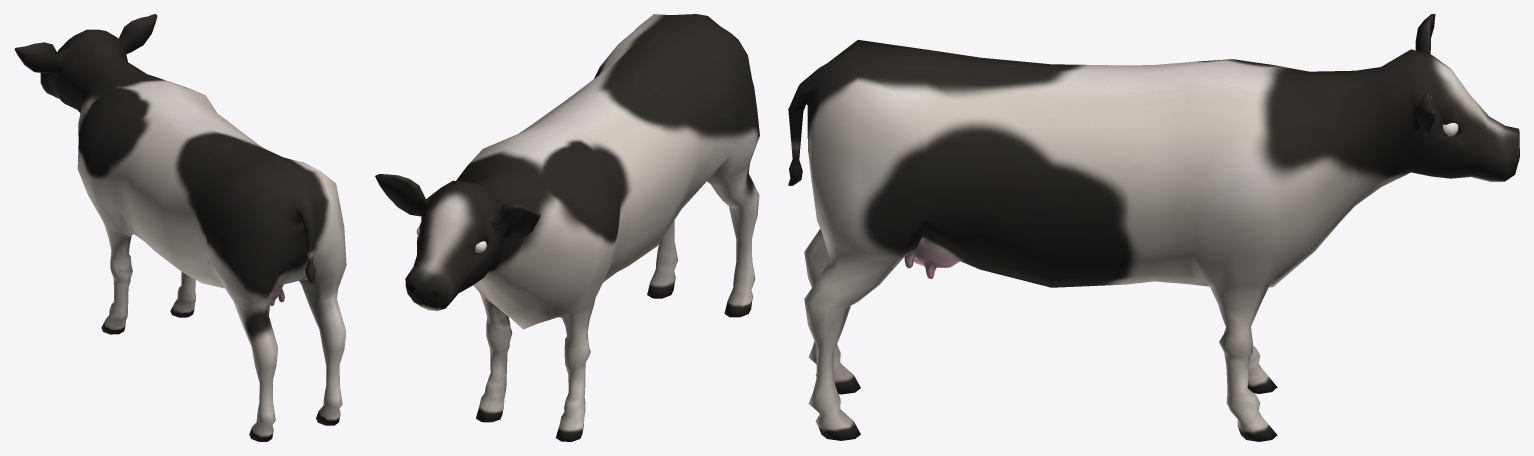
Rendered from CowFinal.FBX.
The picture shows the model from 3 angles, left to right: view 1: azimuth 30°, elevation 25°; view 2: azimuth 150°, elevation 25°; view 3: azimuth 270°, elevation 25°; orthographic projection. The views are drawn at different scales.
Visible parts, largest first — view 1: Cylinder002; view 2: Cylinder002; view 3: Cylinder002.
Boxes of the visible parts, bbox=[...] form: Cylinder002: bbox=[14, 14, 346, 441]; Cylinder002: bbox=[375, 14, 759, 441]; Cylinder002: bbox=[788, 14, 1519, 441].
Size of the model in its own units: 29.24 by 49.19 by 91.55.
1 material, 1 textured.
